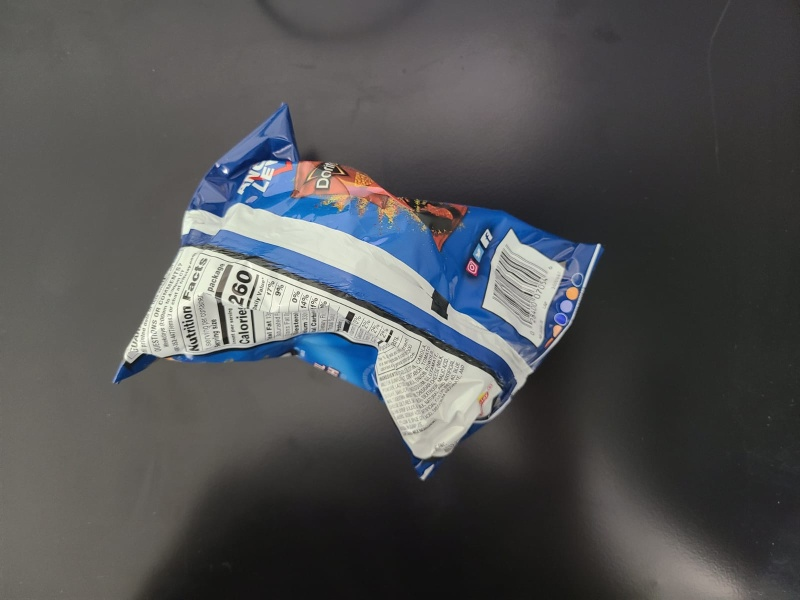doritos: (108, 98, 603, 484)
